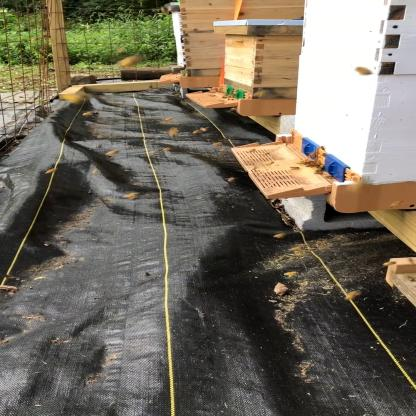bee: (284, 155, 330, 177), (153, 124, 210, 141), (40, 156, 68, 178), (94, 146, 142, 157), (120, 188, 151, 204), (247, 146, 281, 160), (209, 140, 233, 154)
